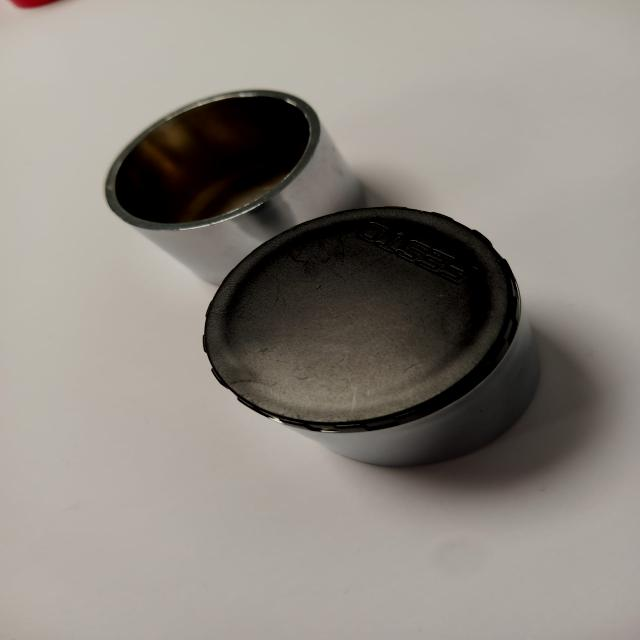NoLid: (90, 101, 352, 250)
Workpiece: (159, 220, 564, 473)
